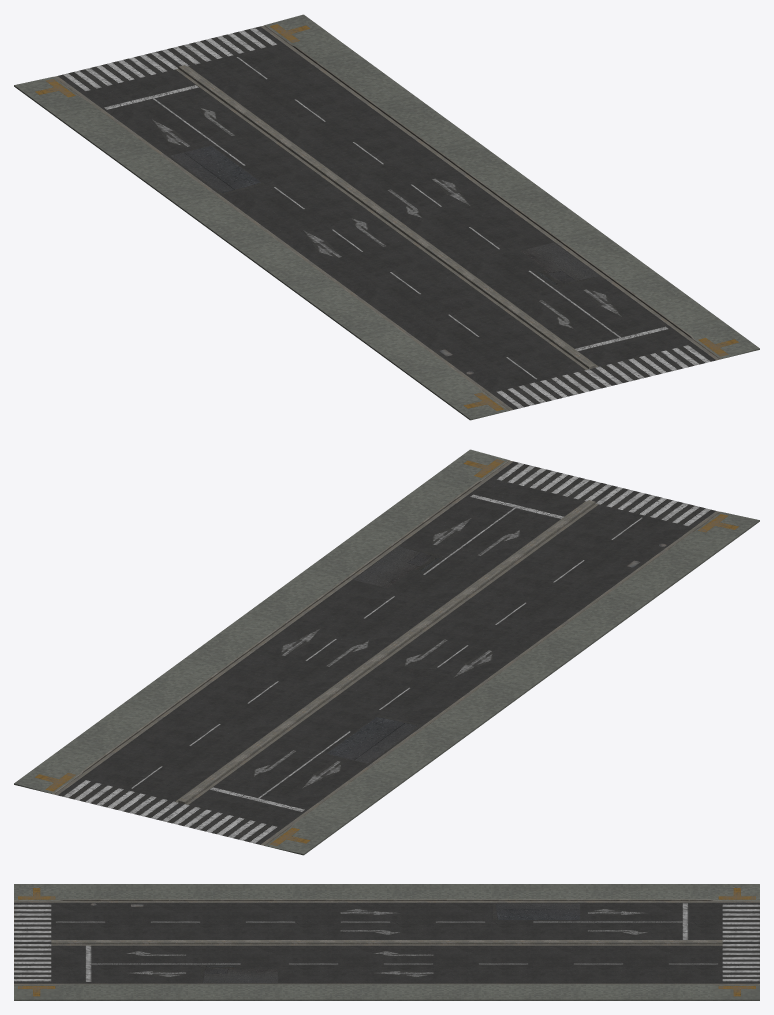
File: jctlowRoad22mA_a.fbx
The picture shows the model from 3 angles, top to bottom: view 1: azimuth 30°, elevation 25°; view 2: azimuth 150°, elevation 25°; view 3: azimuth 270°, elevation 25°; orthographic projection. The views are drawn at different scales.
Visible parts, largest first — view 1: jctlowRoad22mA_a; view 2: jctlowRoad22mA_a; view 3: jctlowRoad22mA_a.
Part boxes in pixels (x1,y1,x2,y2): jctlowRoad22mA_a: [14, 14, 759, 420]; jctlowRoad22mA_a: [14, 449, 759, 855]; jctlowRoad22mA_a: [14, 884, 759, 1000].
Bounding box in the file's own units: 2200 × 15 × 6000.
Materials: 4 (4 with a texture image).
